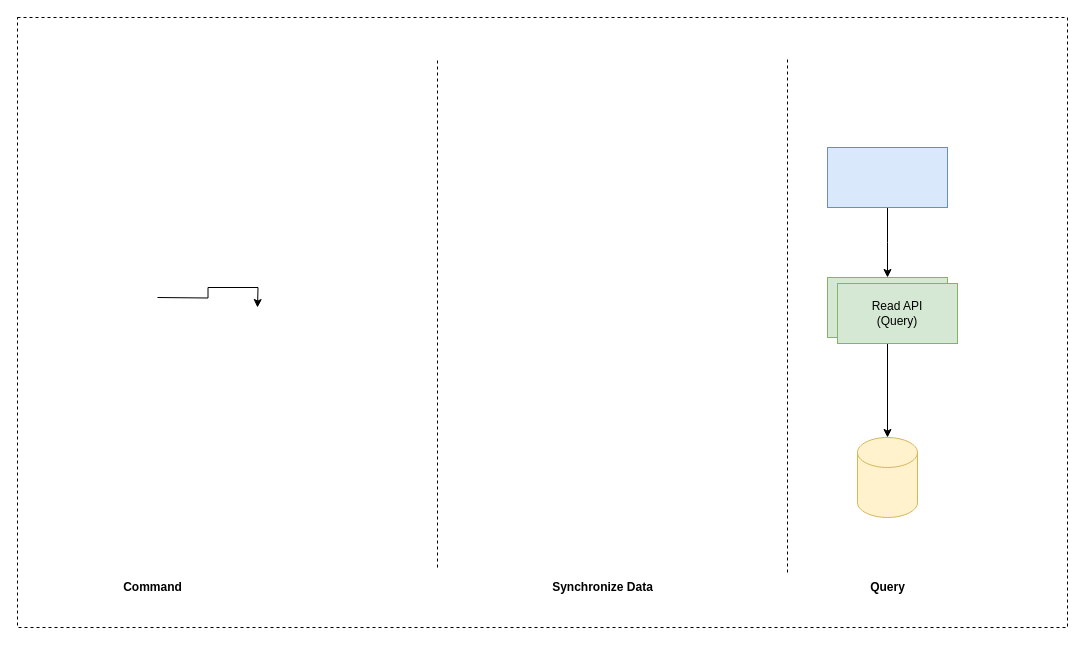
This 1085x645 diagram has some shape labels left out. The centre of each missing label's shape, as x and y in pixels:
"Read DB" goes at point 887,477.
"Read Gateway" goes at point 887,177.
